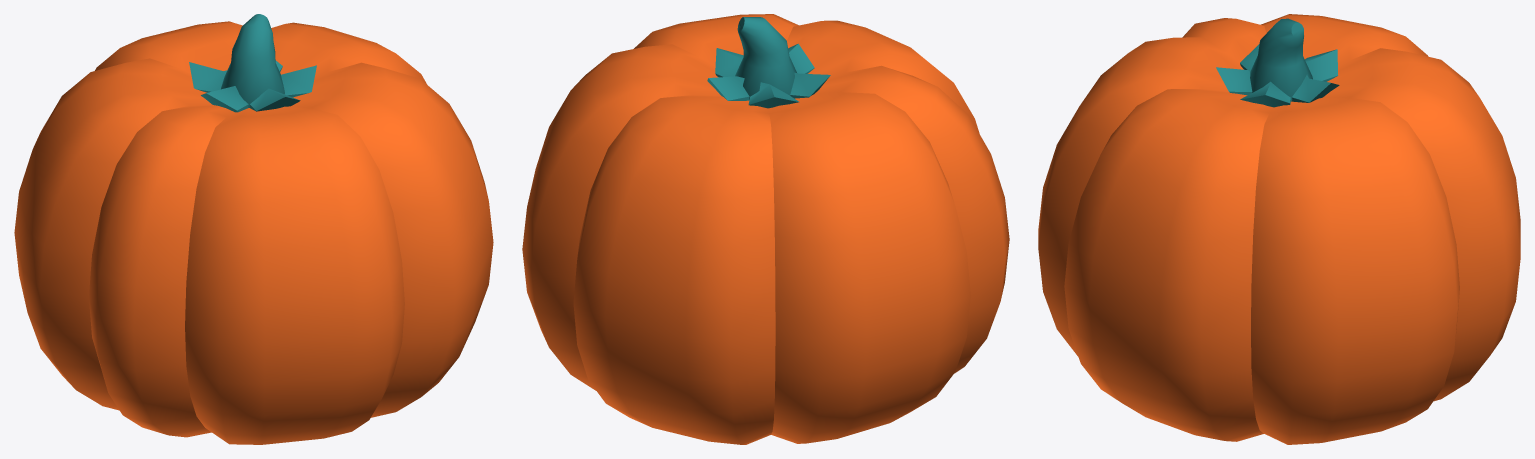
File: pumpkinSmall.gltf.glb
3 views of the same model, side by side, from view 1: azimuth 30°, elevation 25°; view 2: azimuth 150°, elevation 25°; view 3: azimuth 270°, elevation 25° (orthographic).
Parts seen in each view (by area): view 1: pumpkinSmall; view 2: pumpkinSmall; view 3: pumpkinSmall.
Part boxes in pixels (x1,y1,x2,y2): pumpkinSmall: (14,14,493,444); pumpkinSmall: (522,14,1009,444); pumpkinSmall: (1038,14,1520,444).
Size of the model in its own units: 0.536 by 0.4574 by 0.5305.
